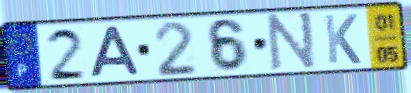2: (153, 19, 199, 78), (44, 26, 88, 81)
6: (205, 17, 252, 74)
A: (88, 24, 143, 80)
K: (322, 13, 364, 66)
N: (267, 10, 317, 73)
